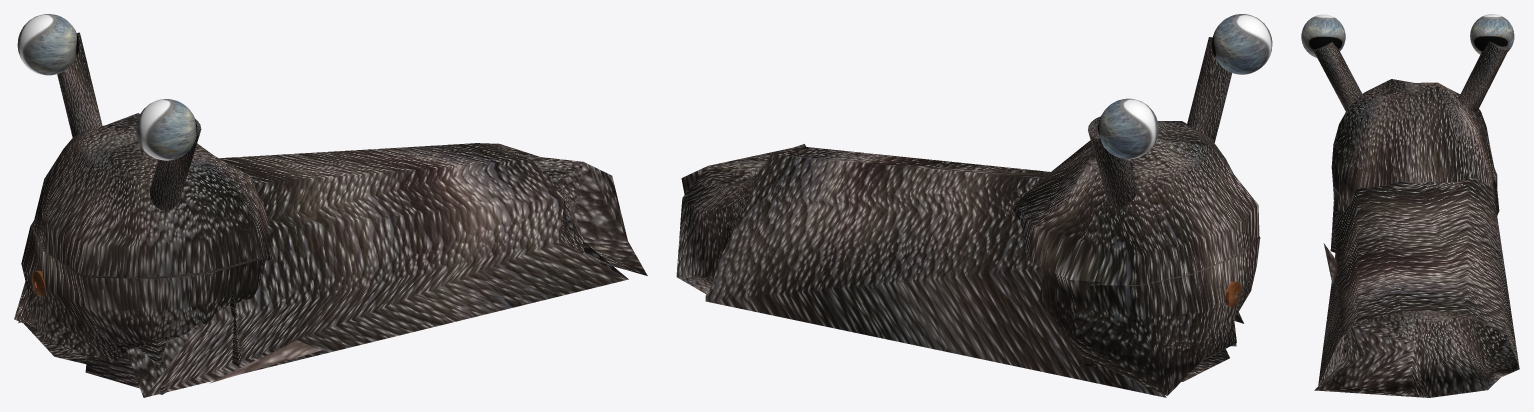
File: Slug.FBX
3 renders of one model, left to right at view 1: azimuth 30°, elevation 25°; view 2: azimuth 150°, elevation 25°; view 3: azimuth 270°, elevation 25°, orthographic. The views are drawn at different scales.
Parts seen in each view (by area): view 1: Object002, Sphere001, Sphere002; view 2: Object002, Sphere001, Sphere002; view 3: Object002, Sphere002, Sphere001.
Boxes of the visible parts, box(x1,y1,x2,y2) form: Object002: box(14, 32, 647, 397); Sphere001: box(17, 14, 78, 75); Sphere002: box(136, 99, 196, 160); Object002: box(676, 37, 1260, 397); Sphere001: box(1098, 98, 1158, 159); Sphere002: box(1212, 14, 1272, 74); Object002: box(1313, 41, 1519, 397); Sphere002: box(1301, 14, 1345, 57); Sphere001: box(1470, 14, 1514, 54).
Bounding box in the file's own units: 77.42 × 39.1 × 35.57.
3 materials, 3 textured.
